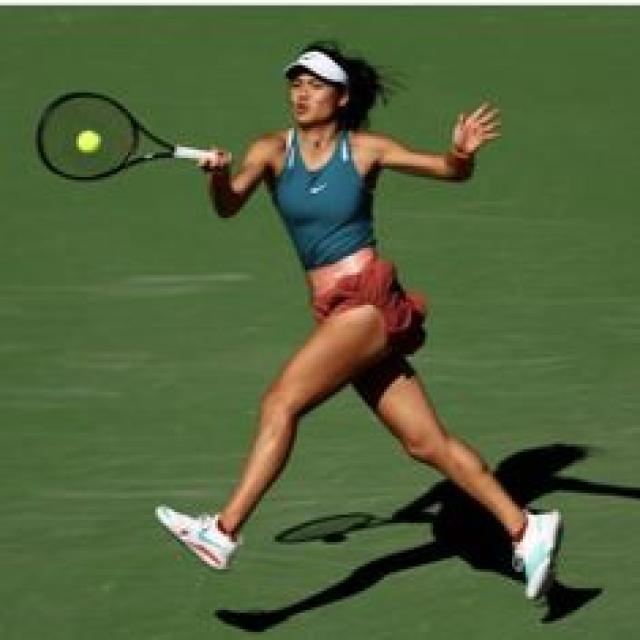tennis: (75, 128, 99, 153)
